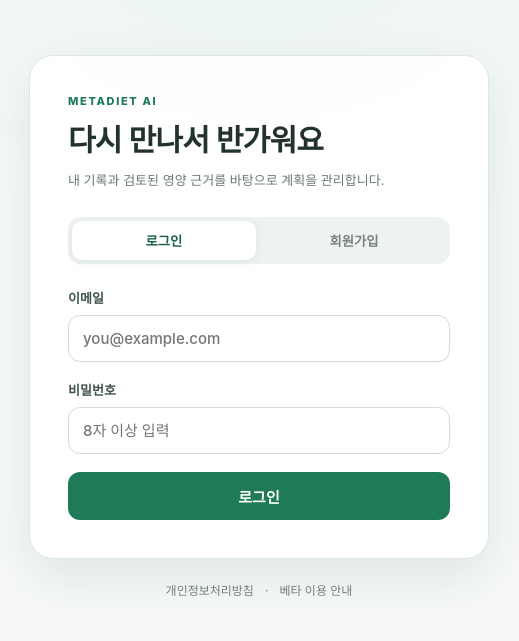
Test case: submits login with the keyboard and exposes errors accessibly
In the field labelled "이메일": x=259, y=339 [68,315,450,362], type "person@example.com"
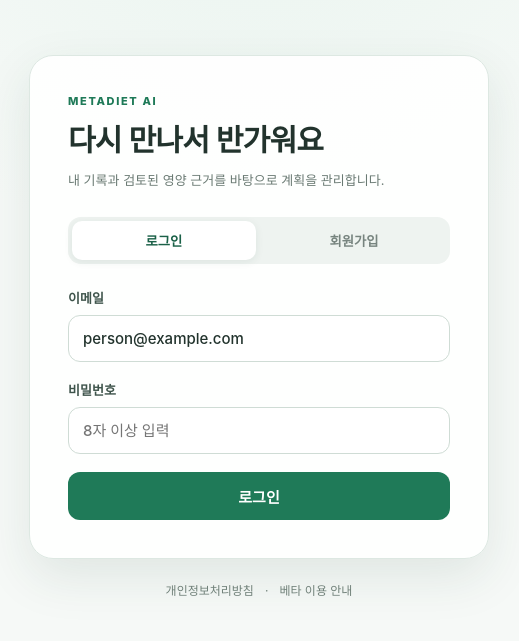
In the password field labelled "비밀번호": x=259, y=431 [68,407,450,454], type "wrong-password"
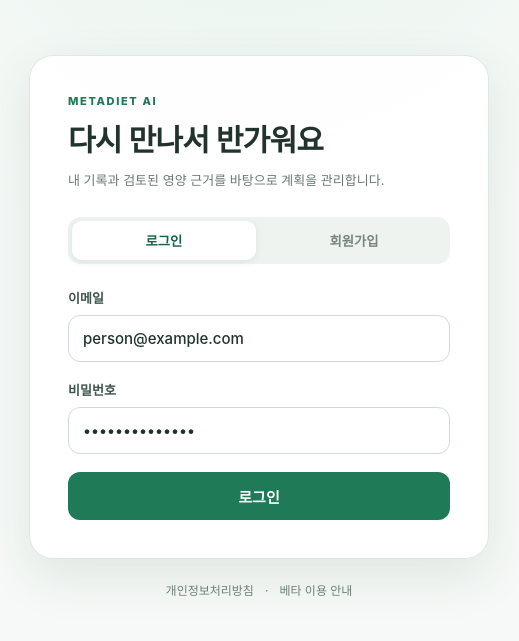
Submit the form named "계정 로그인"
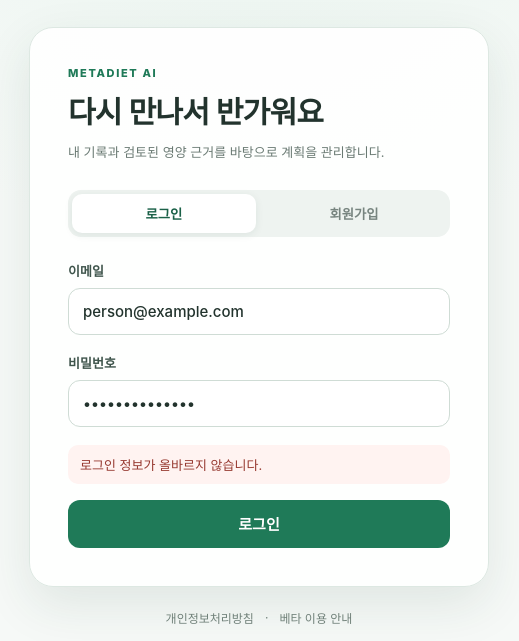
Expected: the message reads "로그인 정보가 올바르지 않습니다.", [80,457,262,473]
